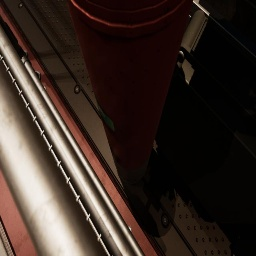NitrogenTank ,: (66, 0, 193, 184)
